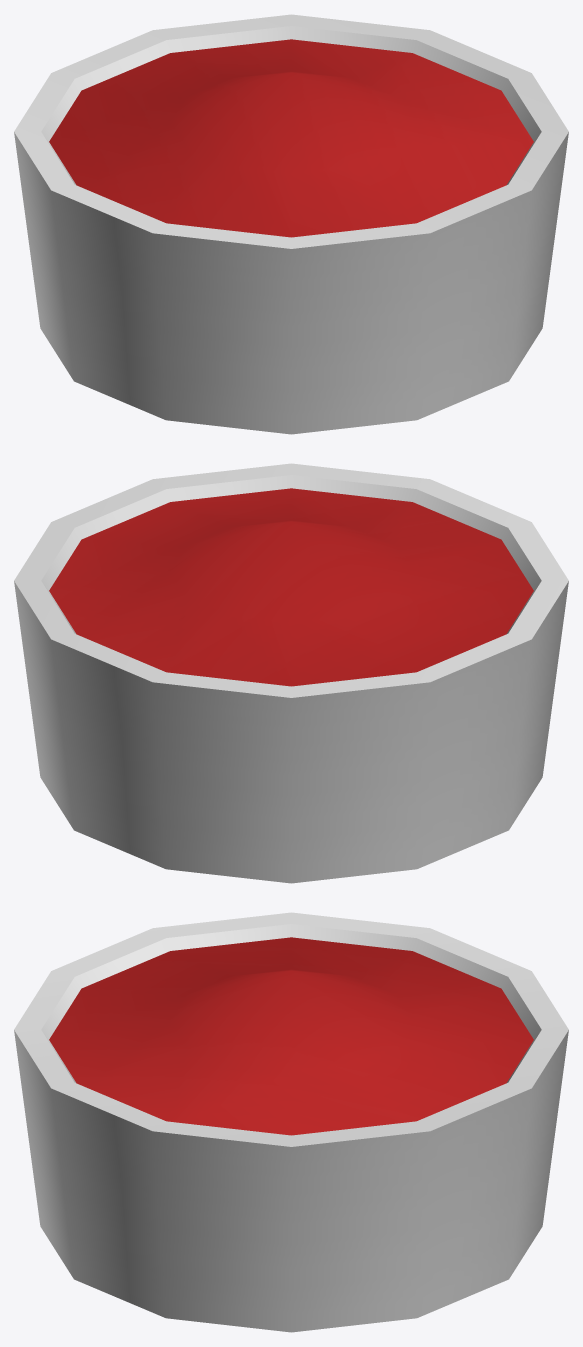
Rendered from DoubleCooked_SauceKetchup.fbx.
The picture shows the model from 3 angles, top to bottom: view 1: azimuth 30°, elevation 25°; view 2: azimuth 150°, elevation 25°; view 3: azimuth 270°, elevation 25°; orthographic projection.
Visible parts, largest first — view 1: DoubleCooked_SauceKetchup; view 2: DoubleCooked_SauceKetchup; view 3: DoubleCooked_SauceKetchup.
Part boxes in pixels (<box>): DoubleCooked_SauceKetchup: <box>14,14,568,434</box>; DoubleCooked_SauceKetchup: <box>14,463,568,883</box>; DoubleCooked_SauceKetchup: <box>14,912,568,1332</box>.
Bounding box in the file's own units: 6.83 × 3.47 × 6.83.
1 material, 1 textured.
